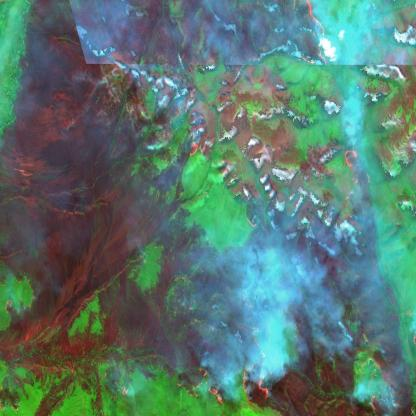fire: (172, 339, 275, 409), (292, 0, 329, 74), (341, 140, 375, 192), (182, 135, 206, 165)
